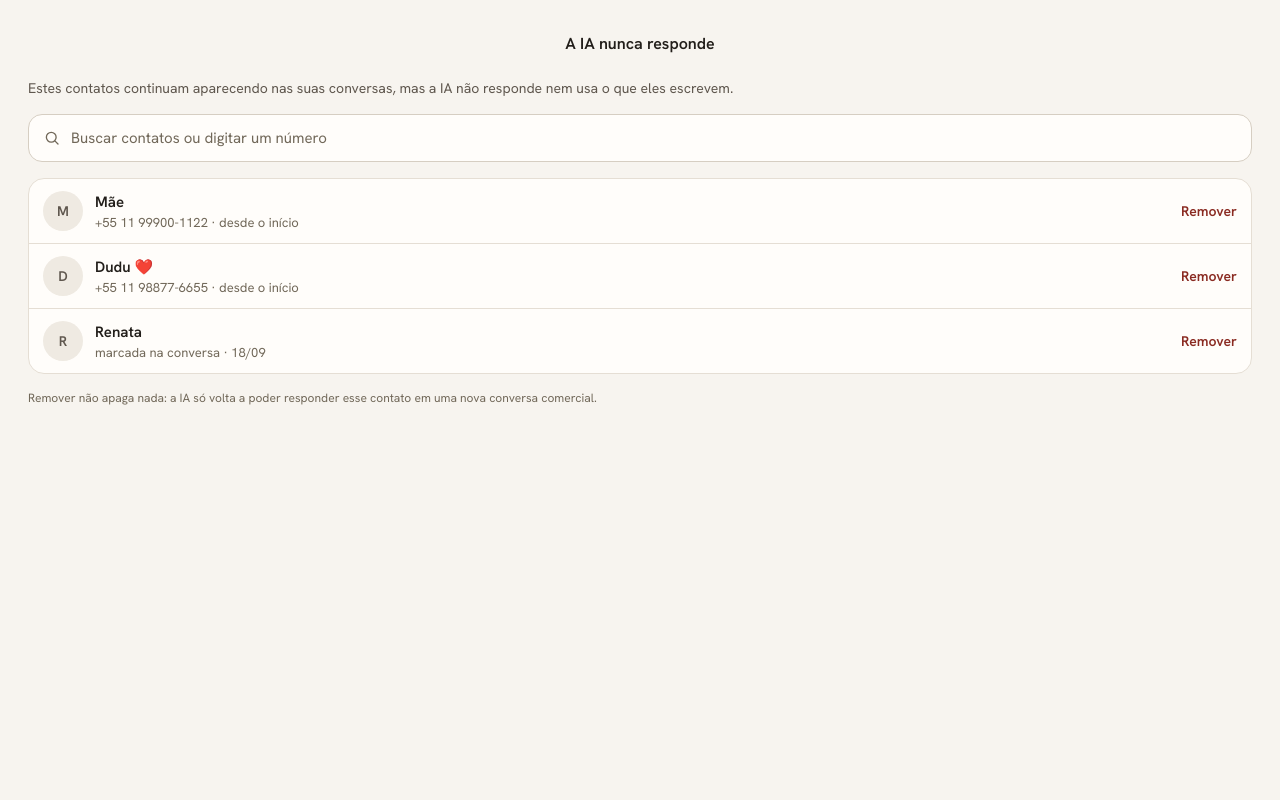
Test: Goal140 a busca › Adicionar com outra falha mostra a mensagem geral
This screenshot has width=1280, height=800.
Expected: the text "Mãe" is shown, [95, 192, 124, 212]
Type "11 96666-5555" into the search field labelled "Buscar contatos ou digitar um número" at [654, 138], box [71, 115, 1237, 161]
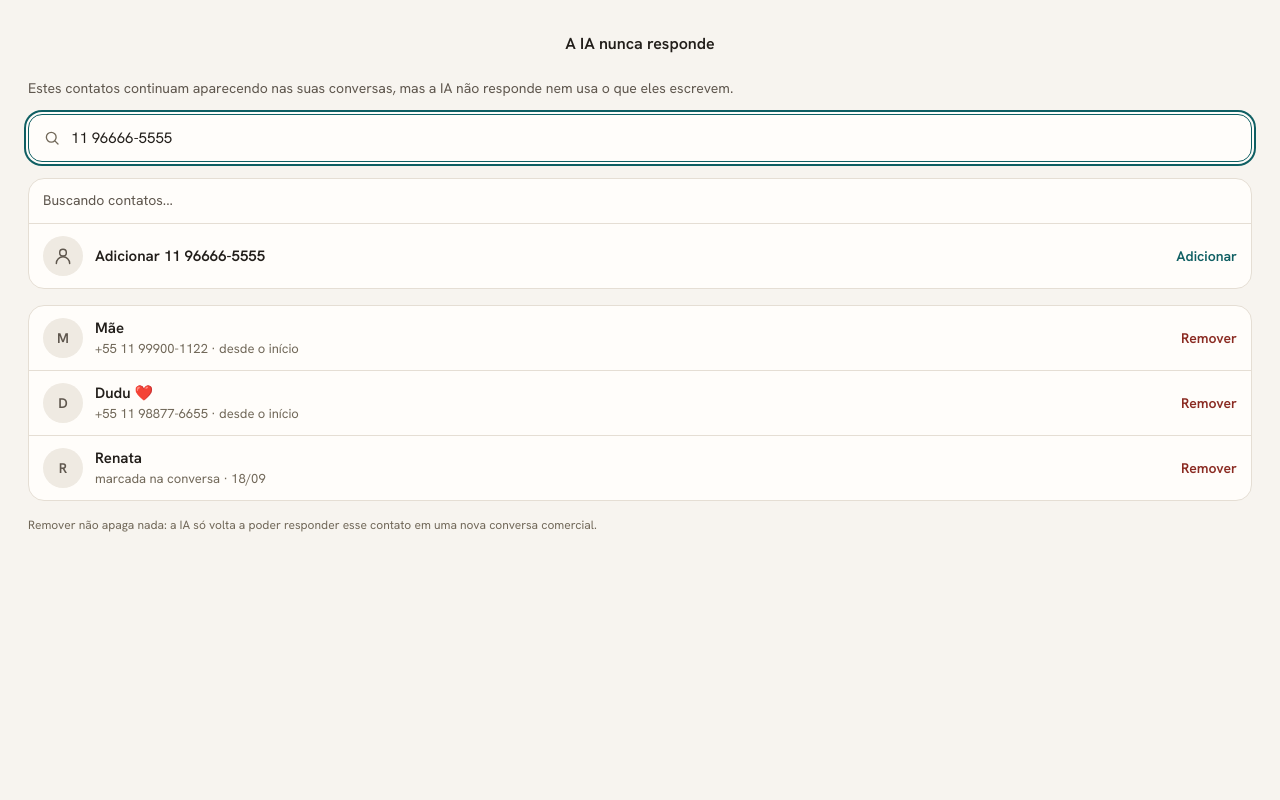
Click the button "Adicionar" at [1207, 256], box [1168, 236, 1245, 276]
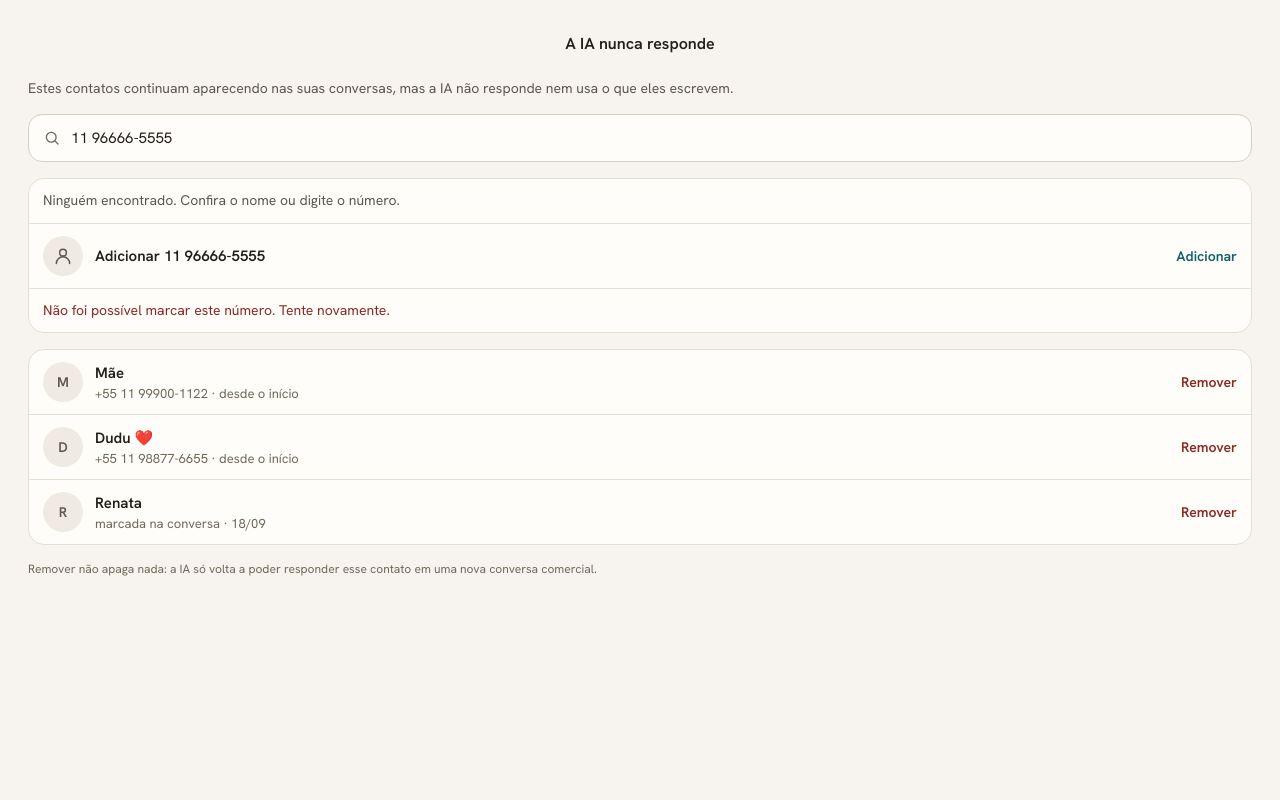
Now the message reads "Não foi possível marcar este número. Tente novamente.", box [43, 301, 390, 319]
